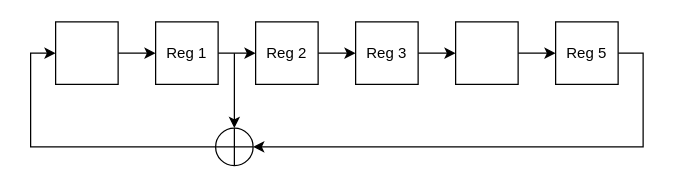
Image size: 675x188. Some labels were removed from this diagram. The shapes that lost their labels are listed below. From the top down, each one's centre as x and y in pixels, then its label:
At [86,52]: "Reg 0".
At [486,52]: "Reg 4".
